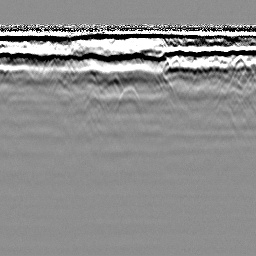cavity: (112, 85, 143, 115)
